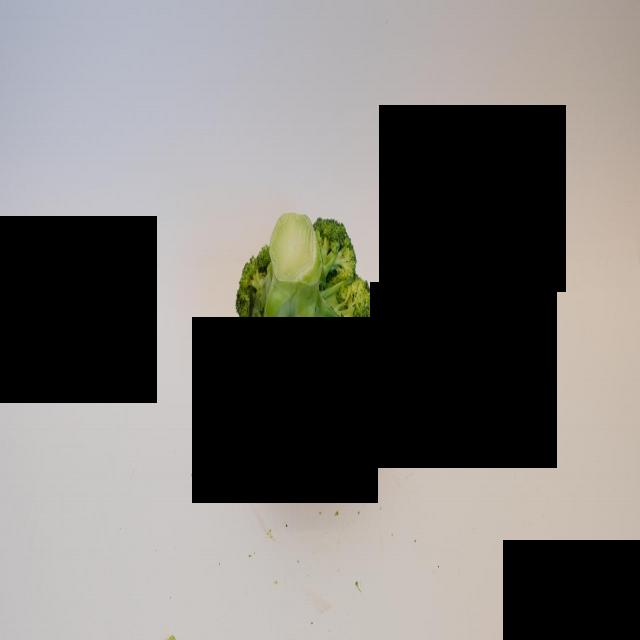broccoli: (235, 213, 387, 473)
